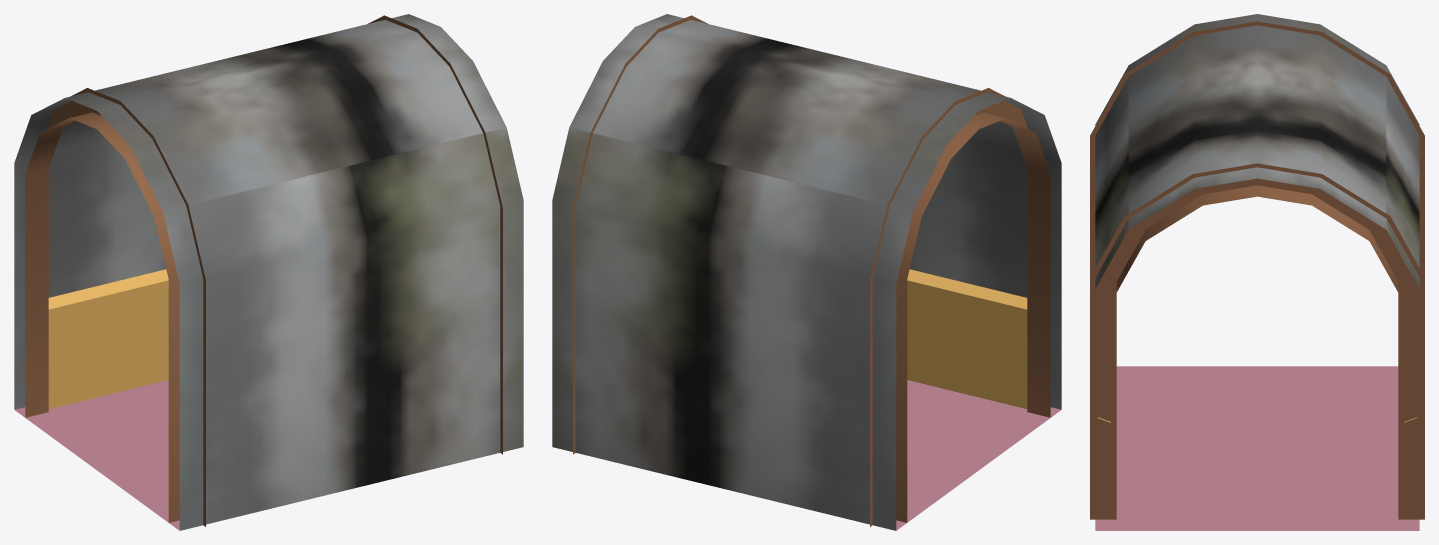
The model's file is fort_corridor_2ex_straight.fbx.
3 views of the same model, side by side, from view 1: azimuth 30°, elevation 25°; view 2: azimuth 150°, elevation 25°; view 3: azimuth 270°, elevation 25° (orthographic). The views are drawn at different scales.
Parts seen in each view (by area): view 1: 2ex_straight; view 2: 2ex_straight; view 3: 2ex_straight.
Part boxes in pixels (x1,y1,x2,y2): 2ex_straight: (14, 14, 523, 530); 2ex_straight: (552, 14, 1061, 530); 2ex_straight: (1090, 14, 1424, 530).
Size of the model in its own units: 300 by 303 by 258.
Materials: 4 (1 with a texture image).
